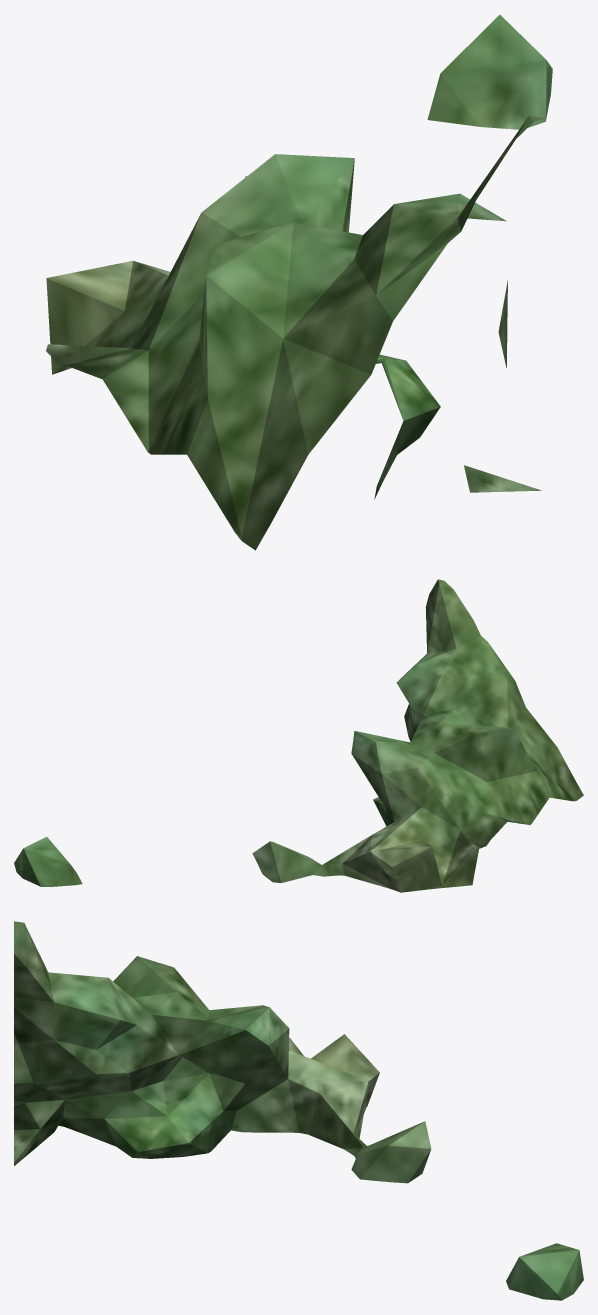
The picture shows the model from 3 angles, top to bottom: view 1: azimuth 30°, elevation 25°; view 2: azimuth 150°, elevation 25°; view 3: azimuth 270°, elevation 25°; orthographic projection. The views are drawn at different scales.
Bounding box in the file's own units: 2.23 × 1.12 × 2.38.
Materials: 1 (1 with a texture image).
